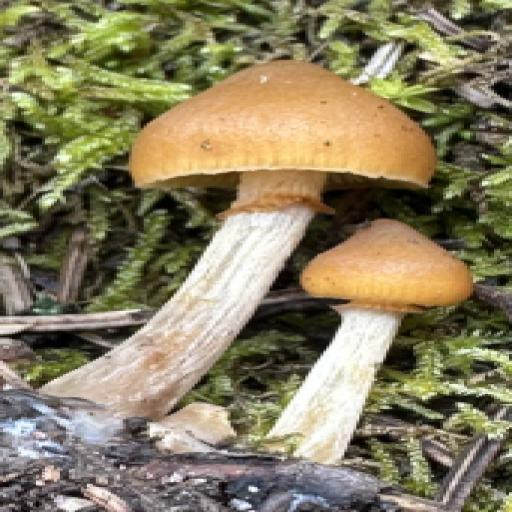mushroom: (104, 56, 477, 414)
